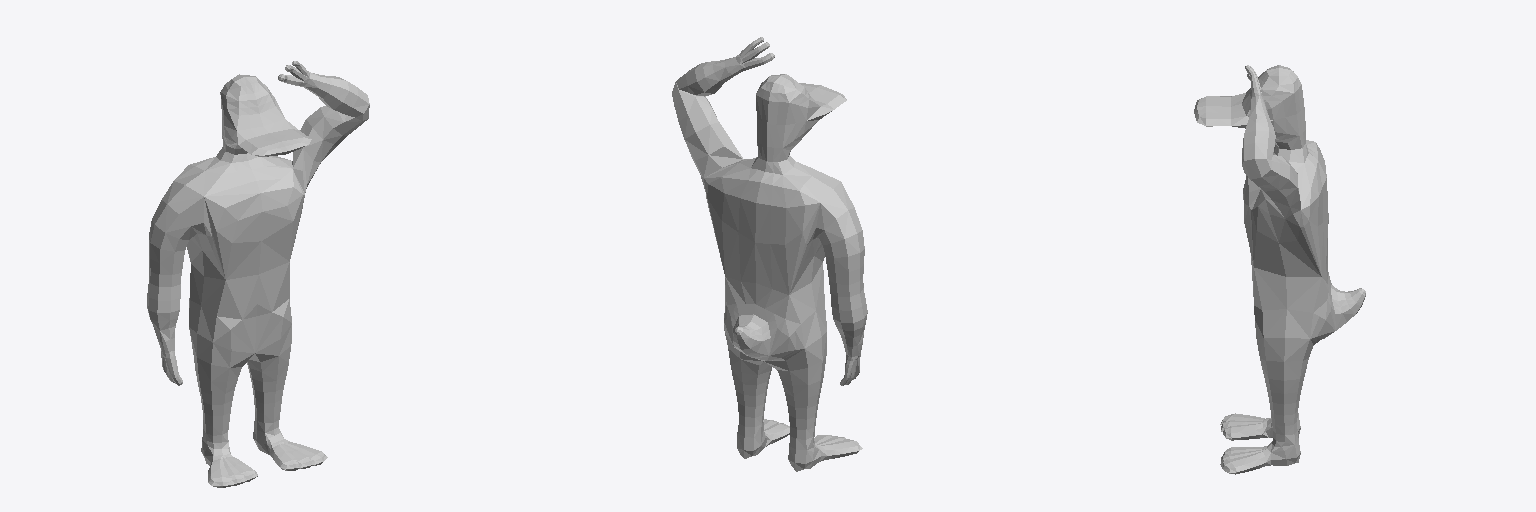
File: canard_000011.obj
The picture shows the model from 3 angles: view 1: azimuth 30°, elevation 25°; view 2: azimuth 150°, elevation 25°; view 3: azimuth 270°, elevation 25°; orthographic projection.
Parts seen in each view (by area): view 1: Cube; view 2: Cube; view 3: Cube.
Boxes of the visible parts, <box> form: Cube: <box>147,61,369,487</box>; Cube: <box>672,37,867,471</box>; Cube: <box>1194,65,1365,474</box>.
Size of the model in its own units: 1.55 by 2.94 by 1.14.